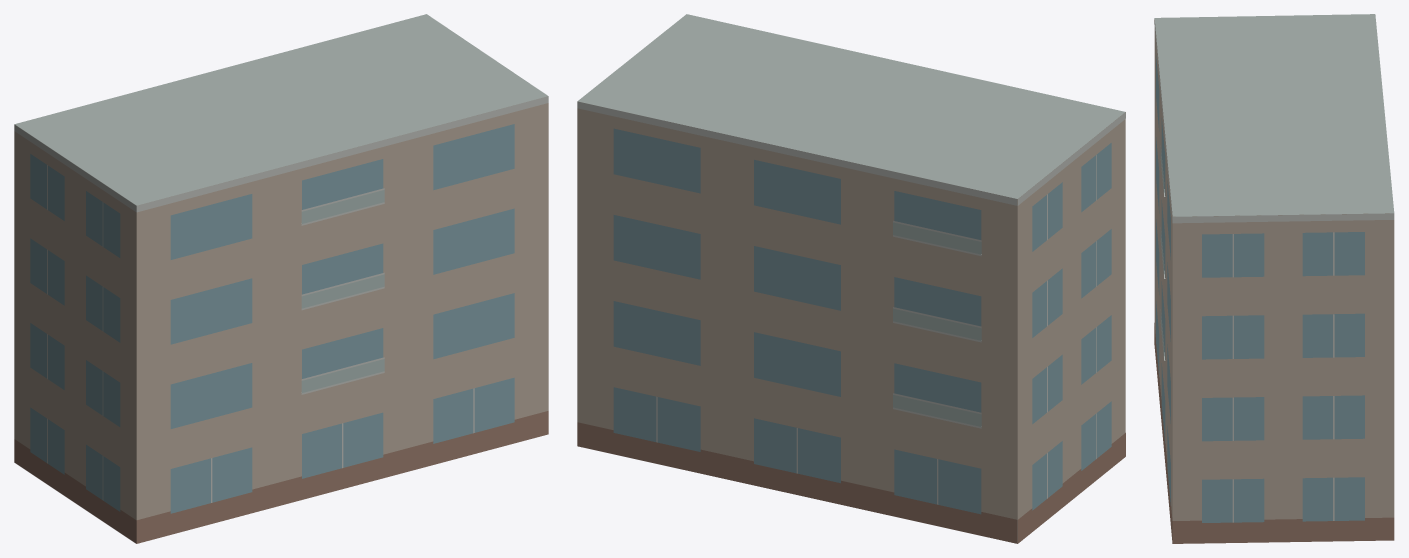
The model's file is survey-upis-32744340.glb.
The picture shows the model from 3 angles, left to right: view 1: azimuth 30°, elevation 25°; view 2: azimuth 150°, elevation 25°; view 3: azimuth 270°, elevation 25°; orthographic projection. The views are drawn at different scales.
Parts seen in each view (by area): view 1: survey-upis-32744340.tmp; view 2: survey-upis-32744340.tmp; view 3: survey-upis-32744340.tmp.
Boxes of the visible parts, left/top/right/bottom form: survey-upis-32744340.tmp: left=14, top=14, right=548, bottom=543; survey-upis-32744340.tmp: left=577, top=14, right=1125, bottom=543; survey-upis-32744340.tmp: left=1154, top=14, right=1394, bottom=543.
Size of the model in its own units: 16.23 by 12.2 by 8.11.
